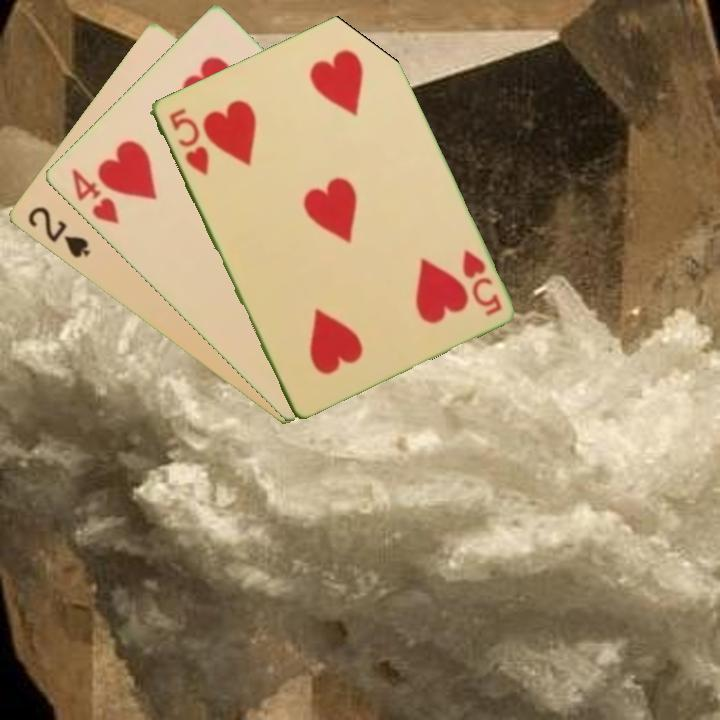2s: (23, 203, 93, 262)
4h: (67, 164, 122, 228)
5h: (165, 104, 212, 178), (458, 246, 504, 319)
